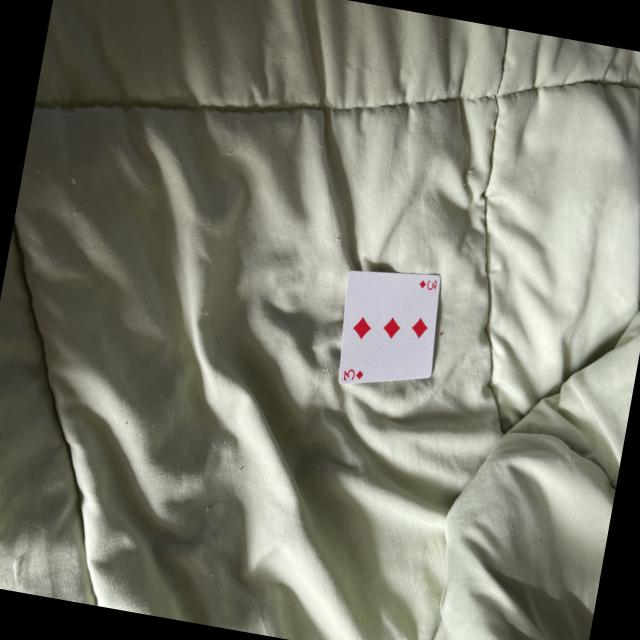3 of diamonds: (338, 272, 438, 383)
